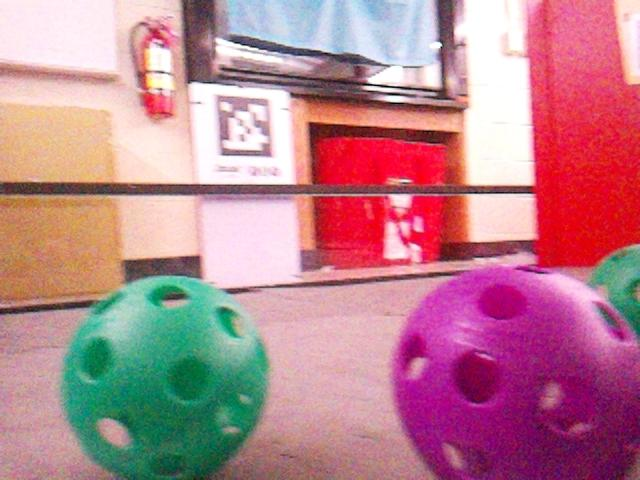Green: (60, 274, 270, 478), (589, 246, 640, 347)
Purple: (390, 265, 640, 480)
